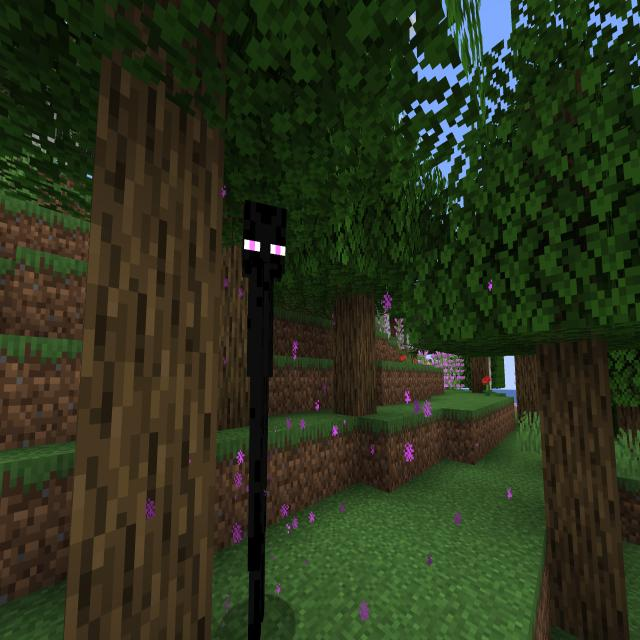Enderman: (228, 195, 302, 640)
